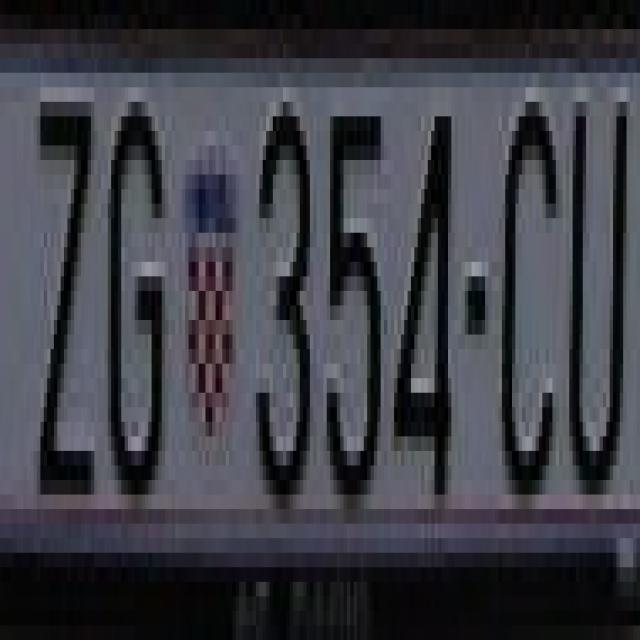3: (249, 73, 310, 480)
4: (394, 102, 455, 480)
5: (330, 117, 384, 494)
C: (492, 58, 556, 495)
G: (104, 117, 165, 494)
U: (566, 102, 626, 480)
Z: (37, 87, 101, 480)
